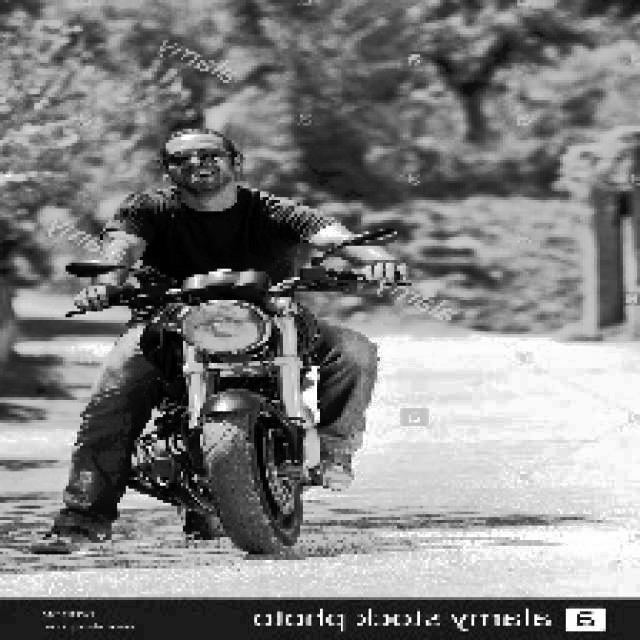Bike: (119, 268, 335, 562)
